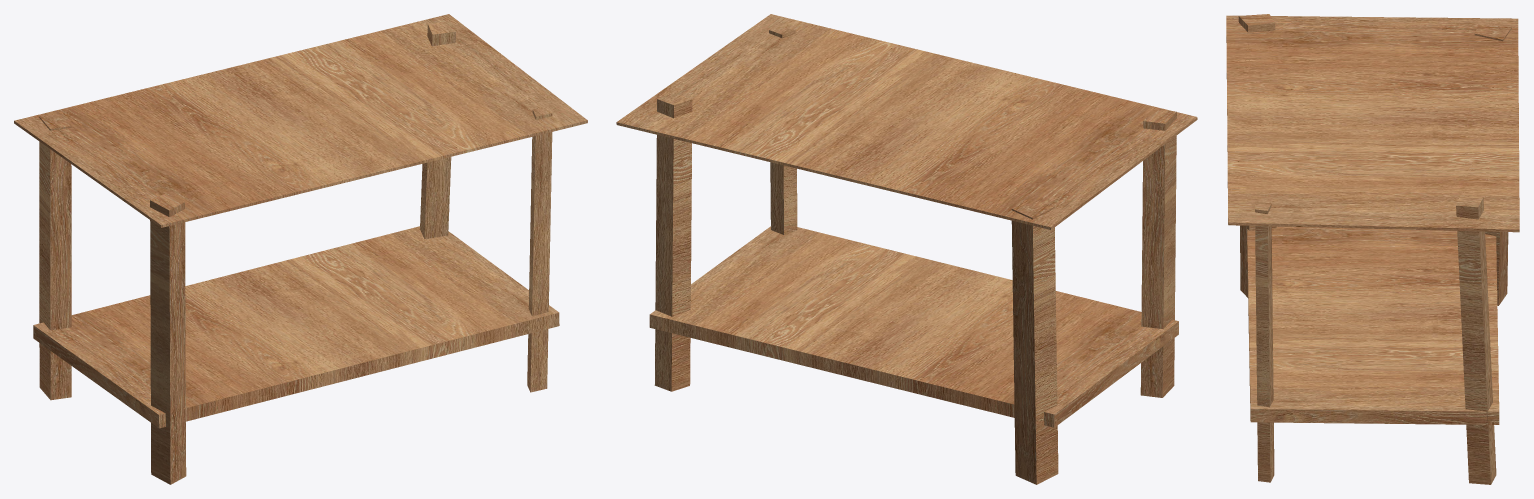
File: 19612_ours.glb
3 renders of one model, left to right at view 1: azimuth 30°, elevation 25°; view 2: azimuth 150°, elevation 25°; view 3: azimuth 270°, elevation 25°, orthographic.
Visible parts, largest first — view 1: ParentEmpty; view 2: ParentEmpty; view 3: ParentEmpty.
Part boxes in pixels (x1,y1,x2,y2): ParentEmpty: (14, 14, 587, 484); ParentEmpty: (616, 14, 1197, 484); ParentEmpty: (1226, 14, 1519, 484).
Bounding box in the file's own units: 1 × 0.6211 × 0.588.
Materials: 1 (1 with a texture image).
